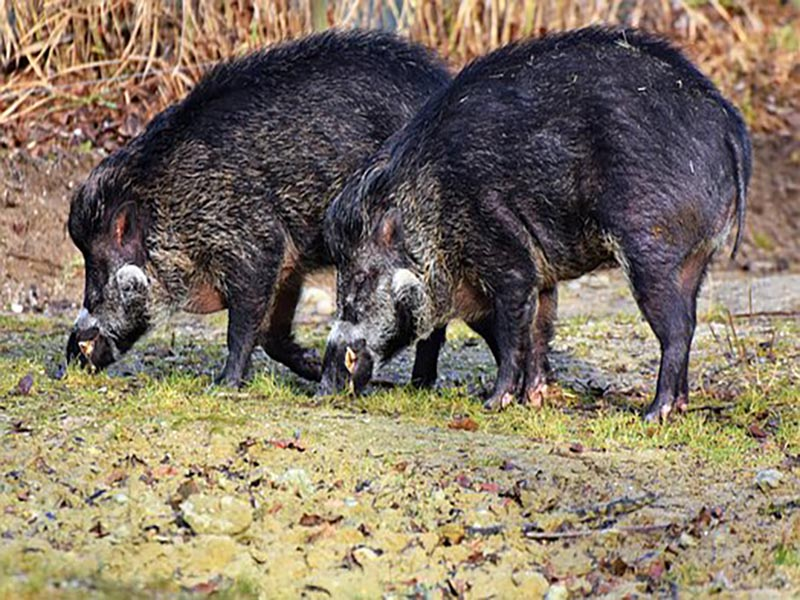cinghiale: (311, 36, 761, 415), (56, 71, 327, 372)
